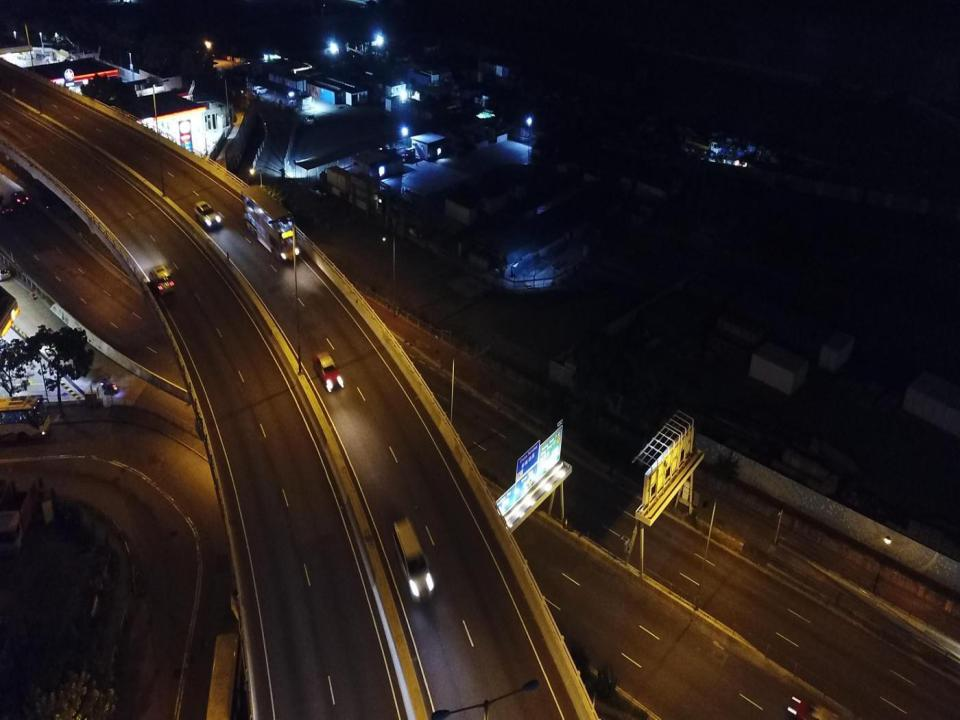bus: (241, 188, 300, 266), (0, 394, 51, 442)
car: (788, 697, 847, 719), (312, 354, 344, 391), (151, 265, 177, 295), (195, 200, 221, 229), (12, 190, 29, 208), (309, 186, 329, 200), (0, 199, 12, 215), (301, 115, 315, 126), (253, 85, 269, 93)
truck: (686, 137, 722, 155)
van: (396, 519, 434, 606), (0, 260, 11, 280)
